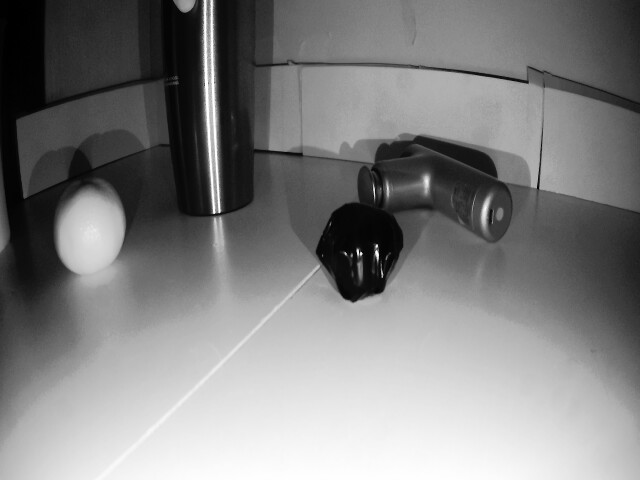silver: (313, 198, 410, 305)
